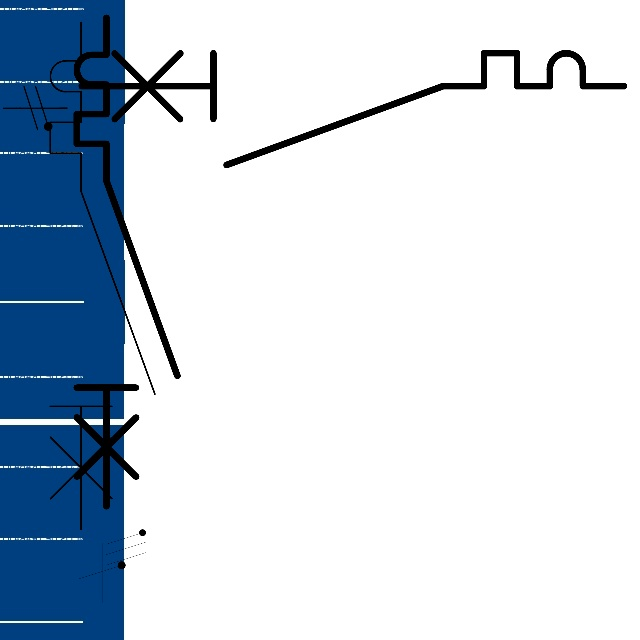interruptor_termomagnetico: (67, 39, 638, 178), (37, 9, 167, 542), (64, 5, 190, 519)
